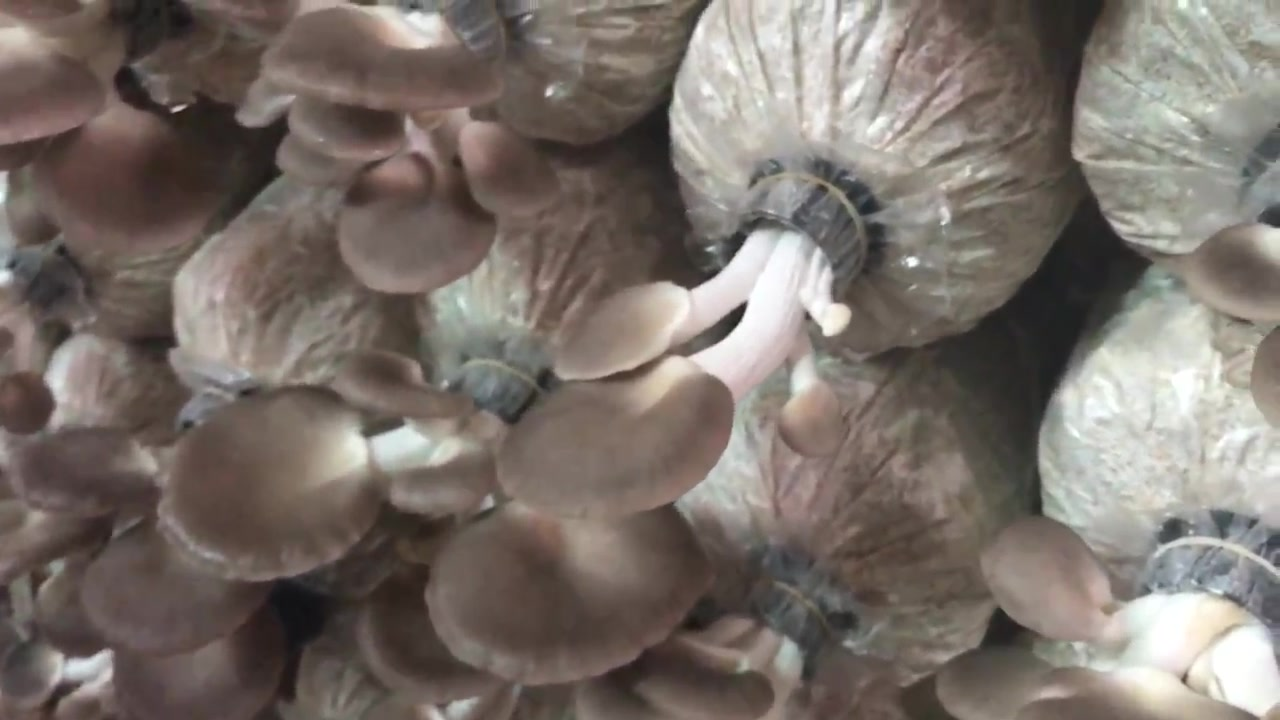nam: (160, 346, 706, 692), (496, 164, 875, 520), (260, 1, 559, 298), (936, 517, 1279, 720)
